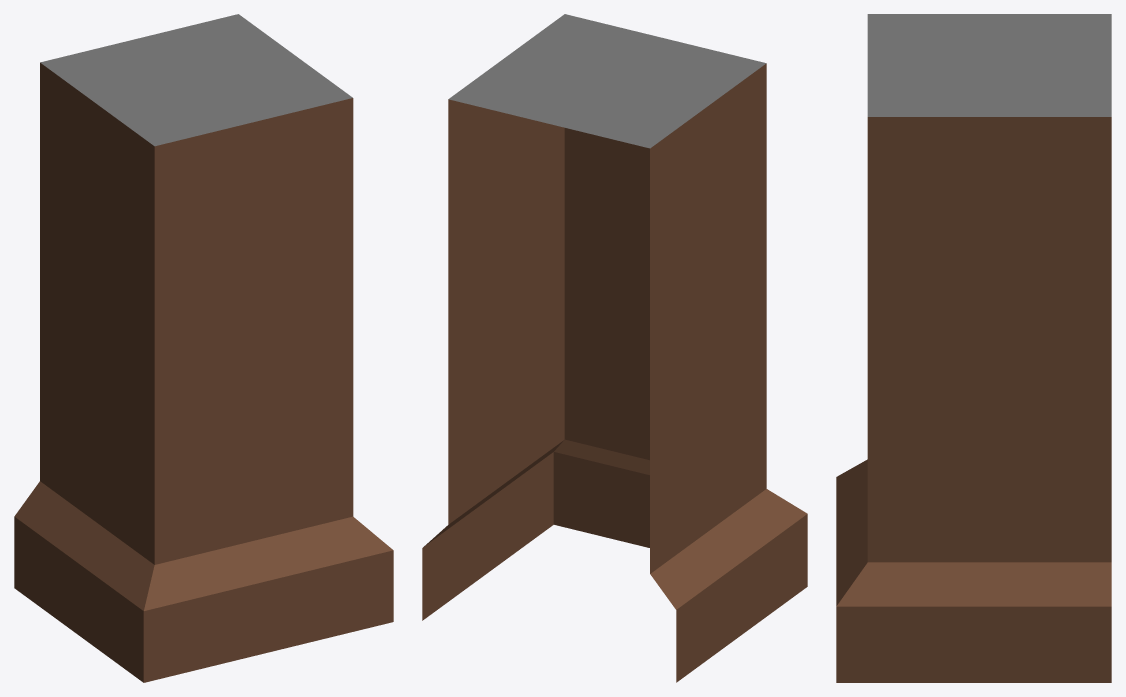
The model's file is Wall_Stone_ThreeSided.fbx.
3 views of the same model, side by side, from view 1: azimuth 30°, elevation 25°; view 2: azimuth 150°, elevation 25°; view 3: azimuth 270°, elevation 25° (orthographic). The views are drawn at different scales.
Parts seen in each view (by area): view 1: pPlane30; view 2: pPlane30; view 3: pPlane30.
Part boxes in pixels (x1,y1,x2,y2): pPlane30: [14, 14, 393, 682]; pPlane30: [422, 14, 807, 682]; pPlane30: [836, 14, 1111, 682].
Bounding box in the file's own units: 126 × 250 × 113.
1 material, 1 textured.
